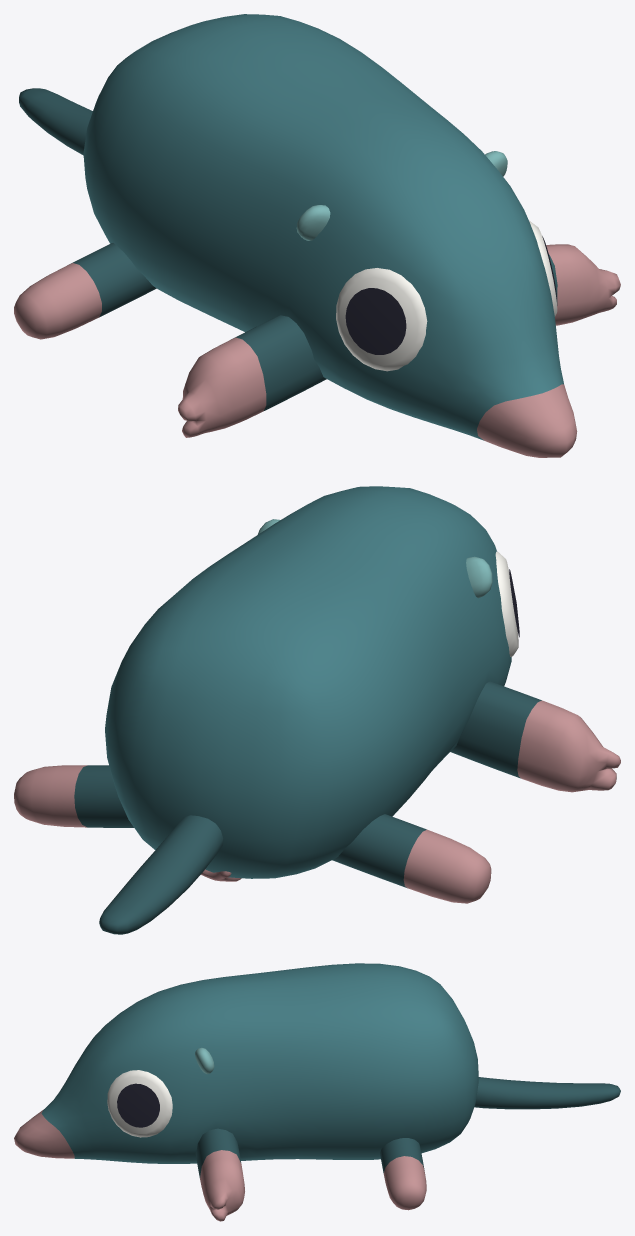
Rendered from Mole.glb.
3 views of the same model, one above another, from view 1: azimuth 30°, elevation 25°; view 2: azimuth 150°, elevation 25°; view 3: azimuth 270°, elevation 25° (orthographic). The views are drawn at different scales.
Visible parts, largest first — view 1: Mole; view 2: Mole; view 3: Mole.
Part boxes in pixels (x1,y1,x2,y2): Mole: (14, 14, 620, 457); Mole: (14, 486, 620, 934); Mole: (14, 963, 620, 1221).
Bounding box in the file's own units: 1.53 × 0.8024 × 2.55.
1 material, 1 textured.
